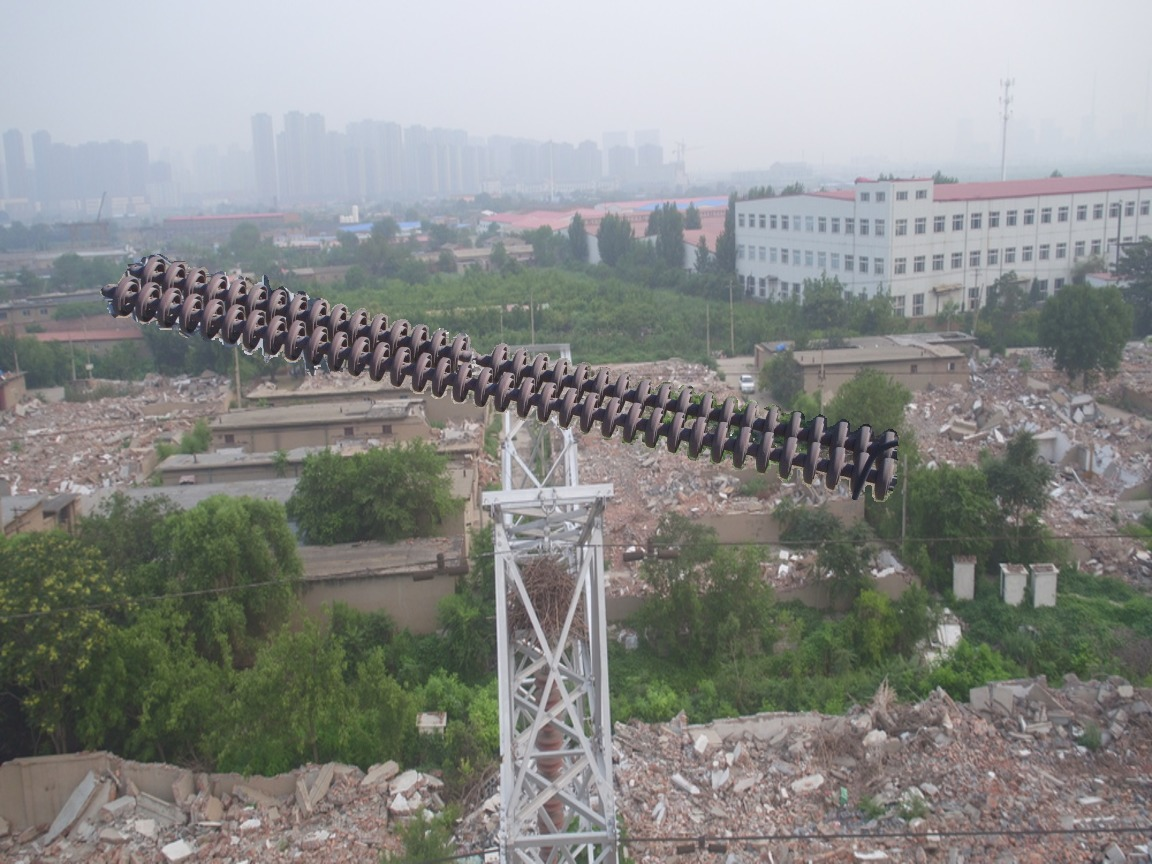defect: (443, 331, 513, 373)
